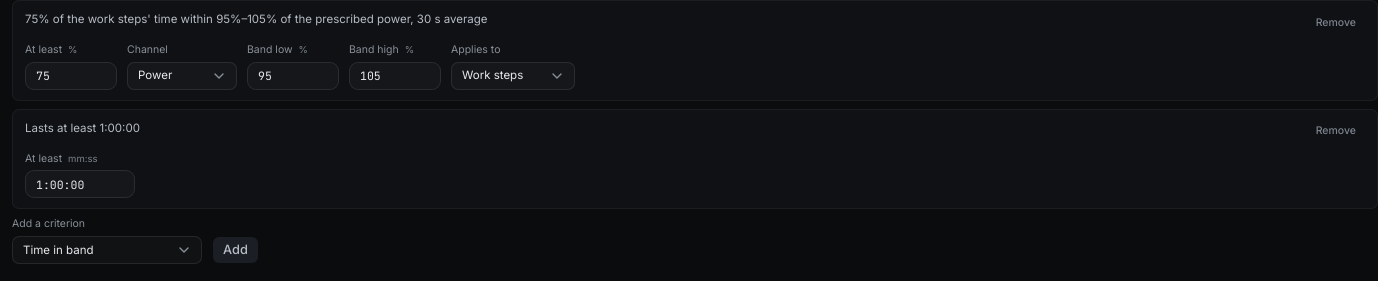
it: CriteriaEditor › removes a criterion
Click the button with aria-label "Remove criterion". click: click(1336, 23)
box: [1307,11,1365,35]
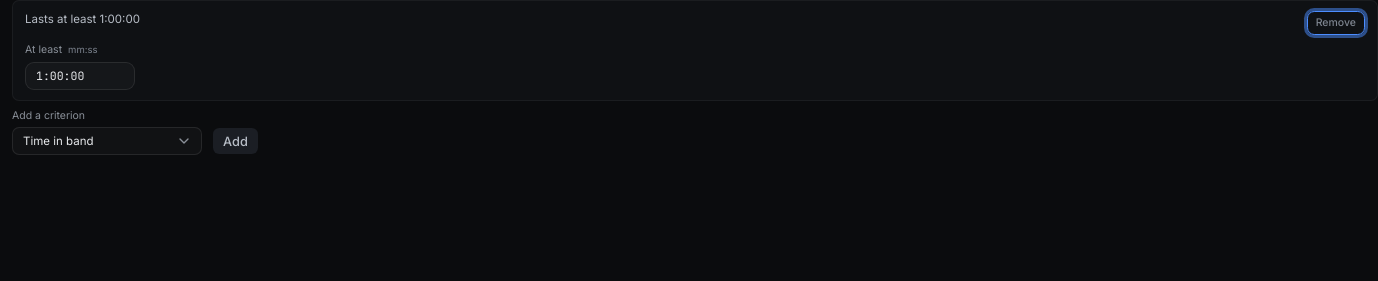
Expected: the number of buttons with test id "criterion" is 1, [12,0,1377,101]
Expected: the text "Lasts at least 1:00:00" is shown, [25,12,140,26]
